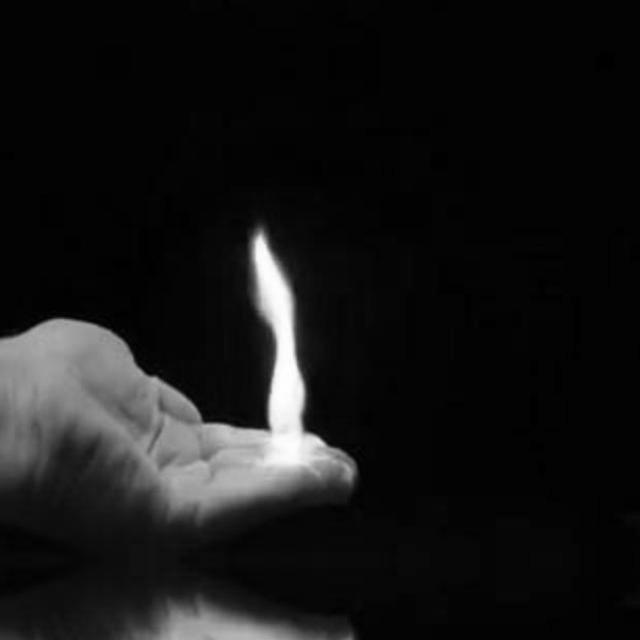smoke: (250, 224, 308, 461)
